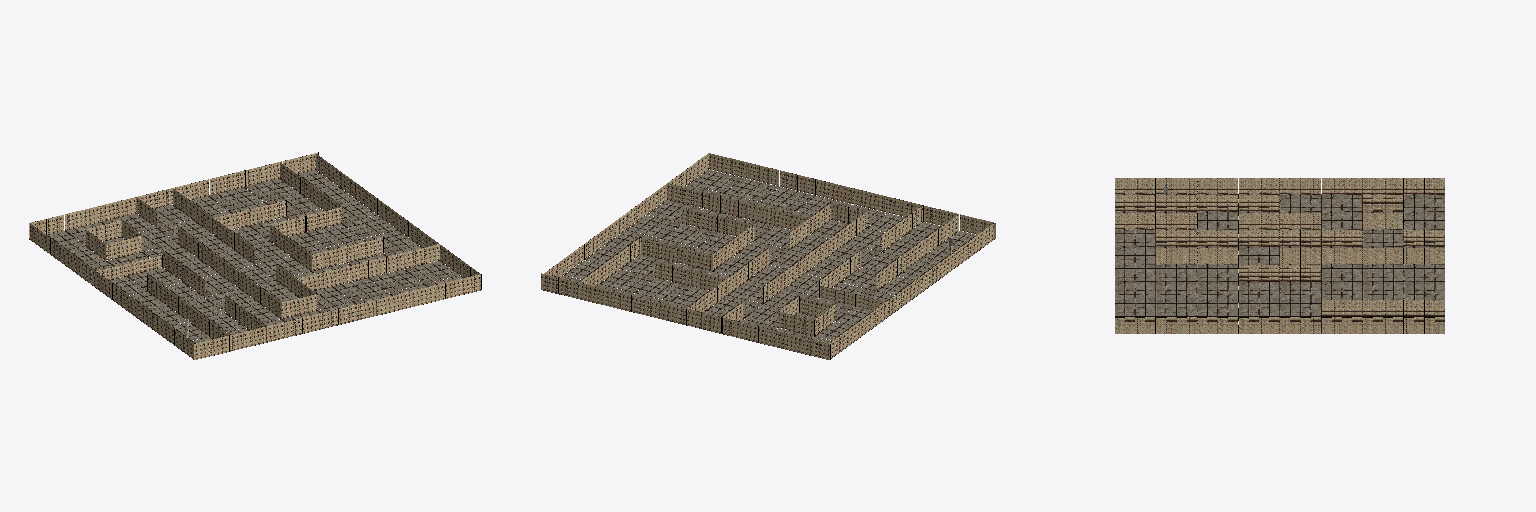
The picture shows the model from 3 angles: view 1: azimuth 30°, elevation 25°; view 2: azimuth 150°, elevation 25°; view 3: azimuth 270°, elevation 25°; orthographic projection.
Parts seen in each view (by area): view 1: mesh01; view 2: mesh01; view 3: mesh01.
Part boxes in pixels (bbox=[...]): mesh01: bbox=[29, 152, 481, 359]; mesh01: bbox=[541, 153, 995, 359]; mesh01: bbox=[1115, 178, 1444, 333].
Bounding box in the file's own units: 7143 × 409 × 7062.
Materials: 1 (1 with a texture image).